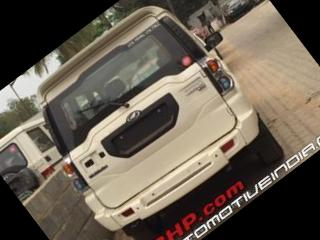plate: (97, 82, 199, 173)
